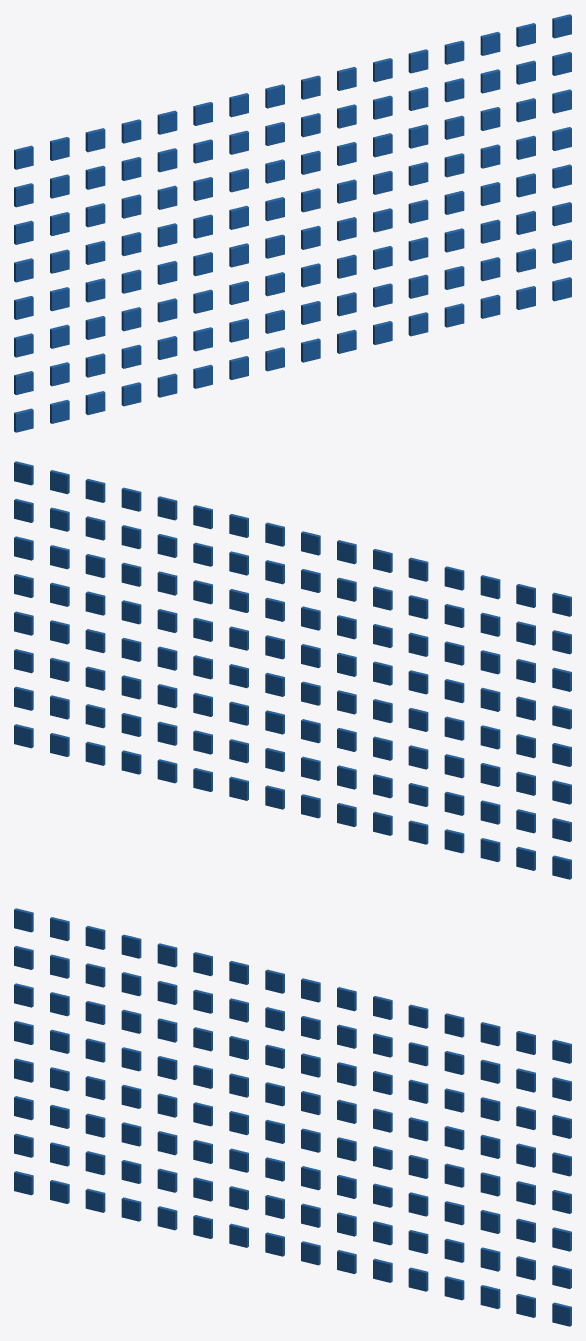
3 renders of one model, top to bottom at view 1: azimuth 30°, elevation 25°; view 2: azimuth 150°, elevation 25°; view 3: azimuth 330°, elevation 25°, orthographic.
Size of the model in its own units: 15.5 by 7.5 by 0.1.
